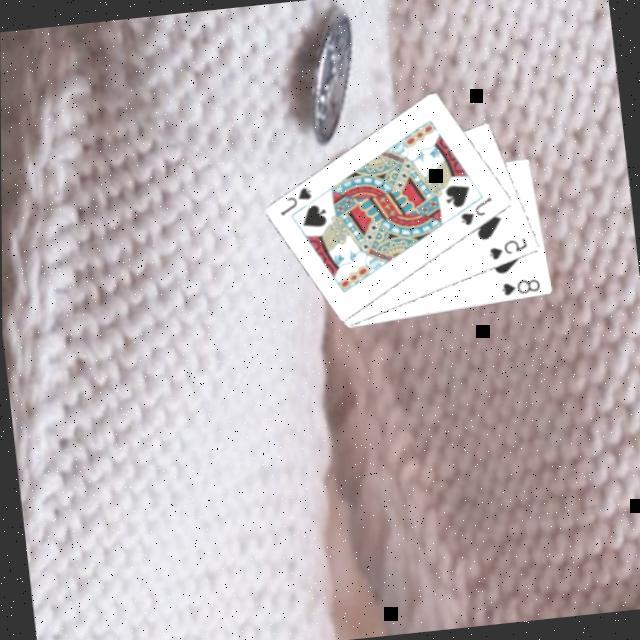5S: (483, 236, 531, 266)
8S: (496, 277, 542, 301)
JS: (272, 184, 316, 222), (454, 195, 496, 231)
